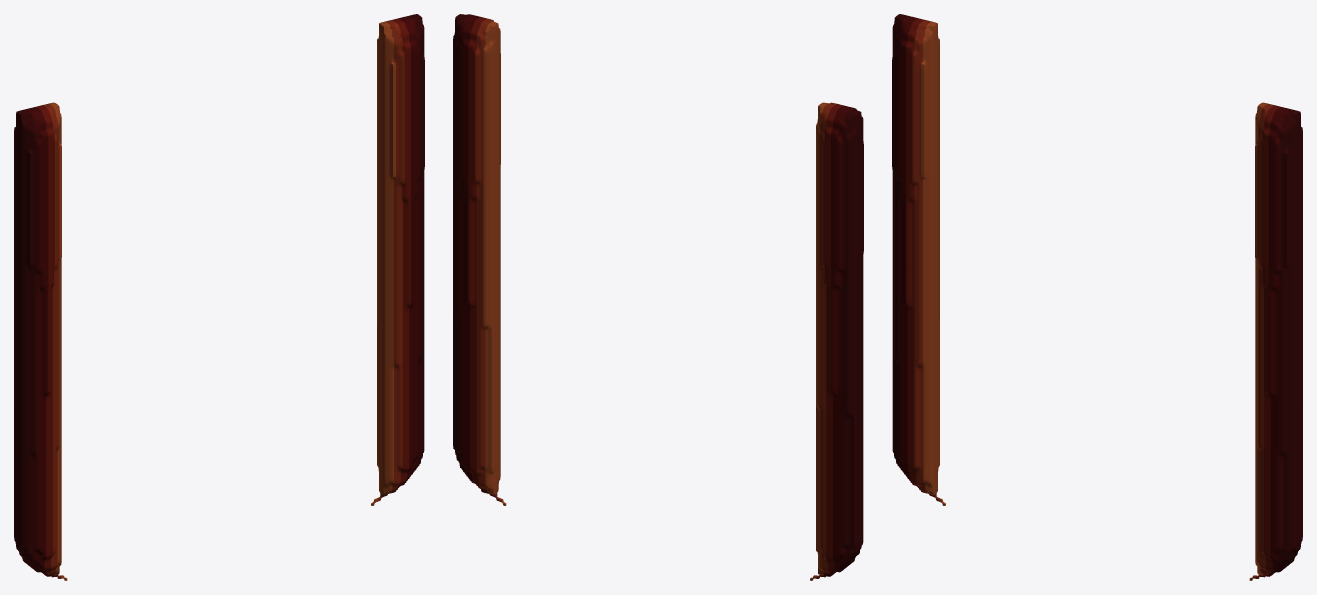
The model's file is Fight_107_3_15.obj.
3 renders of one model, left to right at view 1: azimuth 30°, elevation 25°; view 2: azimuth 150°, elevation 25°; view 3: azimuth 330°, elevation 25°, orthographic.
Bounding box in the file's own units: 12.2 × 13.88 × 1.
